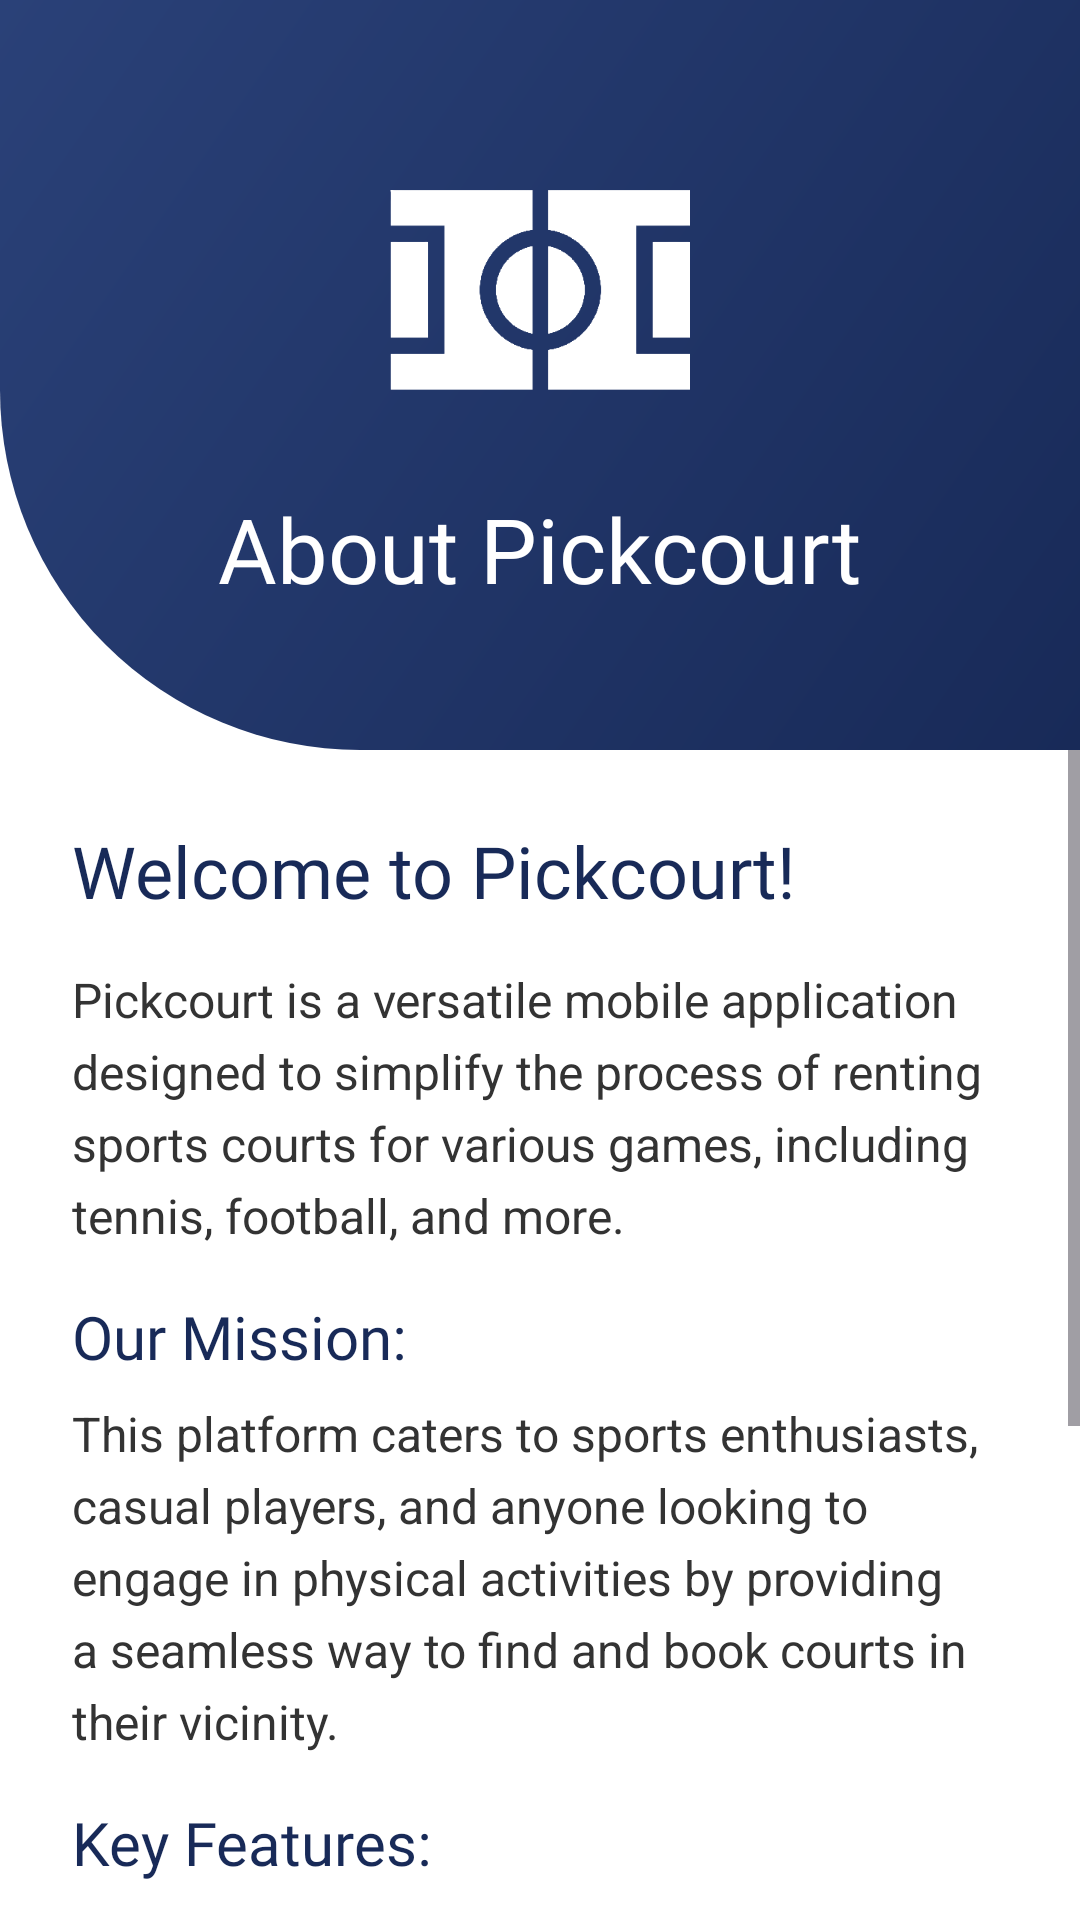

Icon click points for this 1080×1920 phone screenshot, format [x,y]:
App Icon: [540,290]
